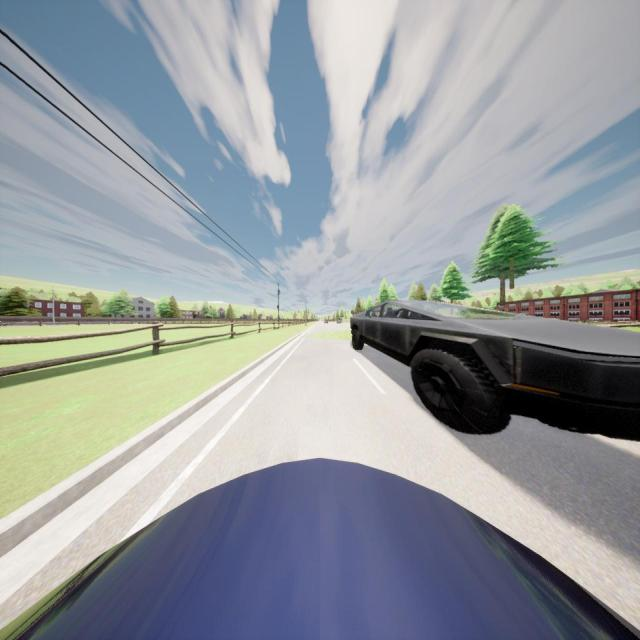Vehicle: (0, 457, 640, 640), (350, 300, 640, 440), (336, 319, 342, 324), (324, 320, 328, 324)
